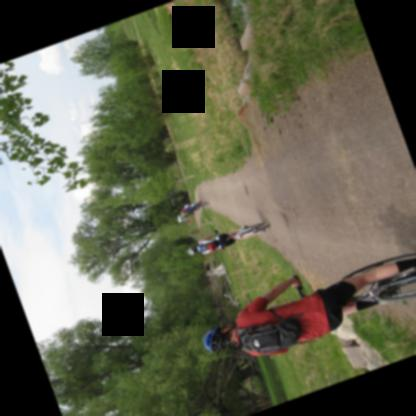backpack: (236, 316, 302, 353), (199, 238, 219, 250), (184, 205, 195, 212)
